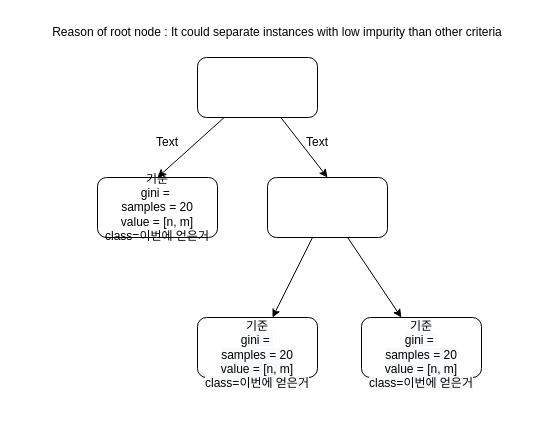
The diagram is 554 pixels wide and 422 high, and some of its shapes have lost their labels. Each missing label, with the centre of its shape:
Act? gini = samples = 17 value = [, ] class=이번에 얻을거: [257,87]
기준 gini = samples = 20 value = [n, m] class=이번에 얻을거: [327,207]
